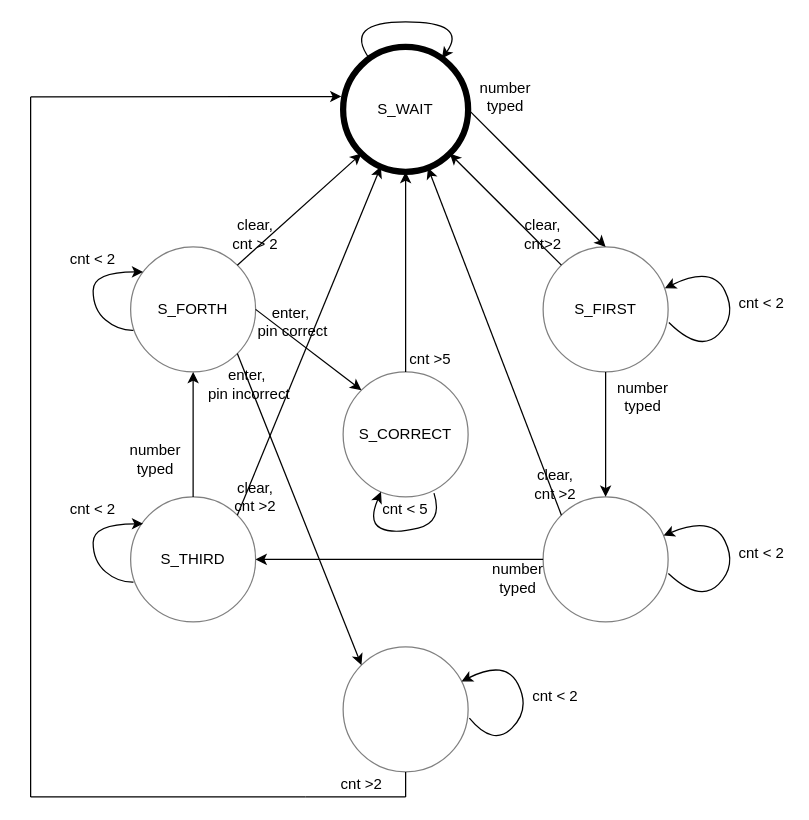
The diagram is 809 pixels wide and 820 high, and some of its shapes have lost their labels. Here are the shapes that lost their labels. From the top down, the centre of each, then its label:
At point 605,559: "S_SECOND".
At point 405,709: "S_WRONG".
